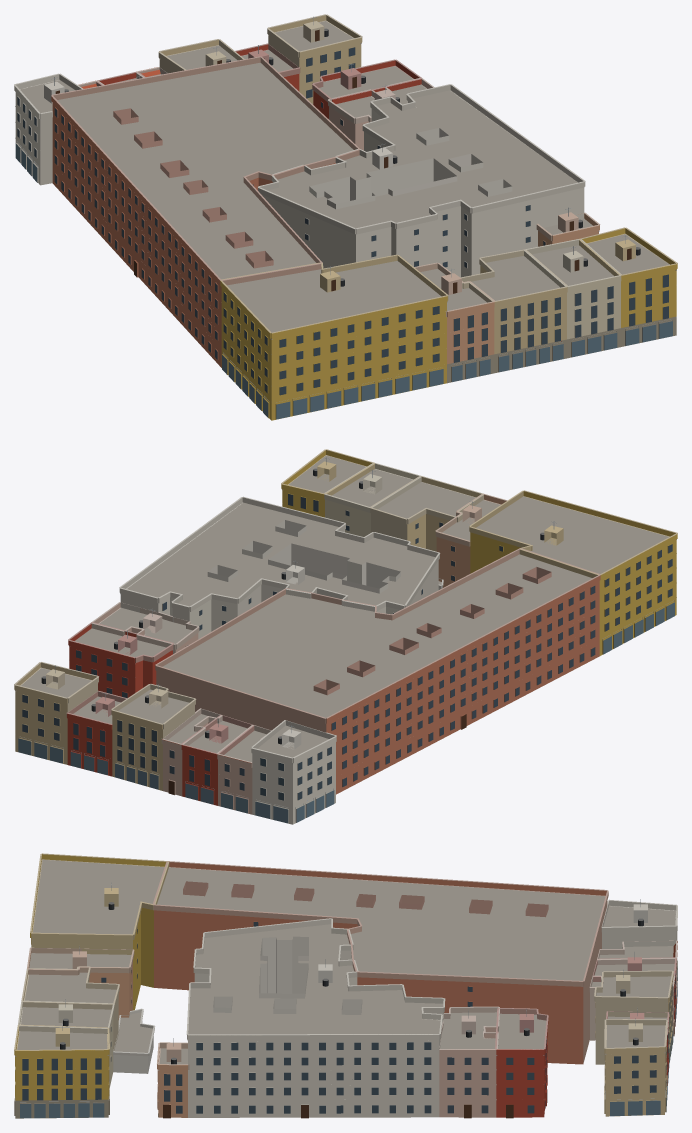
File: AURORA-01.glb
The picture shows the model from 3 angles, top to bottom: view 1: azimuth 30°, elevation 25°; view 2: azimuth 150°, elevation 25°; view 3: azimuth 270°, elevation 25°; orthographic projection. The views are drawn at different scales.
Parts seen in each view (by area): view 1: B-r18344388__LOD0, B-r16846406__LOD0, B-w1259462231__LOD0, B-w1259462235__LOD0, B-w1259462233__LOD0, B-w1259462234__LOD0, B-w1259462232__LOD0, B-w1259462247__LOD0, B-w1259462230__LOD0, B-w1259462248__LOD0, B-w1259462249__LOD0, B-w1259462243__LOD0 (+2 smaller); view 2: B-r18344388__LOD0, B-r16846406__LOD0, B-w1259462231__LOD0, B-w1259462230__LOD0, B-w1259462243__LOD0, B-w1259462247__LOD0, B-w1259462248__LOD0, B-w1259462235__LOD0, B-w1259462234__LOD0, B-w1259462233__LOD0, B-w1259462244__LOD0, B-w1259462241__LOD0 (+4 smaller); view 3: B-r18344388__LOD0, B-r16846406__LOD0, B-w1259462231__LOD0, B-w1259462233__LOD0, B-w1259462249__LOD0, B-w1259462247__LOD0, B-w1259462248__LOD0, B-w1259462243__LOD0, B-w1259462232__LOD0, B-w1259462230__LOD0, B-w1259462235__LOD0, B-w1259462234__LOD0 (+6 smaller).
Part boxes in pixels (x1,y1,x2,y2): B-r18344388__LOD0: [51, 56, 359, 367]; B-r16846406__LOD0: [258, 84, 585, 277]; B-w1259462231__LOD0: [220, 254, 448, 420]; B-w1259462235__LOD0: [460, 249, 568, 373]; B-w1259462233__LOD0: [579, 227, 677, 346]; B-w1259462234__LOD0: [524, 239, 621, 358]; B-w1259462232__LOD0: [414, 262, 494, 383]; B-w1259462247__LOD0: [267, 14, 362, 104]; B-w1259462230__LOD0: [14, 73, 83, 185]; B-w1259462248__LOD0: [312, 59, 421, 118]; B-w1259462249__LOD0: [328, 78, 434, 150]; B-w1259462243__LOD0: [158, 39, 244, 73]; B-r18344388__LOD0: [155, 548, 600, 794]; B-r16846406__LOD0: [119, 496, 440, 639]; B-w1259462231__LOD0: [469, 490, 677, 655]; B-w1259462230__LOD0: [251, 720, 336, 824]; B-w1259462243__LOD0: [111, 684, 196, 790]; B-w1259462247__LOD0: [14, 662, 98, 764]; B-w1259462248__LOD0: [68, 622, 173, 698]; B-w1259462235__LOD0: [370, 476, 483, 551]; B-w1259462234__LOD0: [324, 463, 421, 536]; B-w1259462233__LOD0: [281, 449, 374, 517]; B-w1259462244__LOD0: [66, 690, 126, 776]; B-w1259462241__LOD0: [181, 715, 254, 805]; B-r18344388__LOD0: [153, 861, 608, 1064]; B-r16846406__LOD0: [186, 918, 445, 1118]; B-w1259462231__LOD0: [30, 853, 169, 1010]; B-w1259462233__LOD0: [14, 1022, 109, 1118]; B-w1259462249__LOD0: [438, 1006, 499, 1118]; B-w1259462247__LOD0: [604, 1018, 667, 1116]; B-w1259462248__LOD0: [495, 1008, 548, 1118]; B-w1259462243__LOD0: [594, 969, 673, 1064]; B-w1259462232__LOD0: [27, 946, 134, 1019]; B-w1259462230__LOD0: [601, 899, 677, 980]; B-w1259462235__LOD0: [21, 966, 119, 1050]; B-w1259462234__LOD0: [18, 999, 114, 1088].
Size of what is drawn, in the model's own units: 78.07 by 19.8 by 120.
